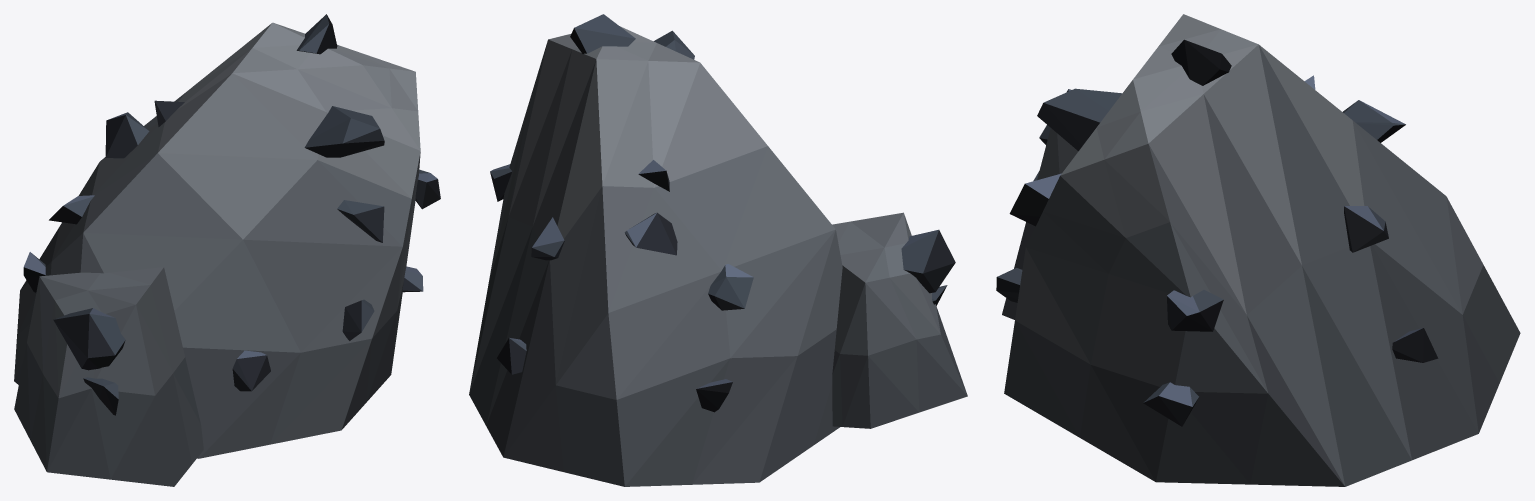
Rendered from Rocks_Ore_Coal2.glb.
3 views of the same model, side by side, from view 1: azimuth 30°, elevation 25°; view 2: azimuth 150°, elevation 25°; view 3: azimuth 270°, elevation 25° (orthographic). The views are drawn at different scales.
Parts seen in each view (by area): view 1: Rocks_Ore_Coal2; view 2: Rocks_Ore_Coal2; view 3: Rocks_Ore_Coal2.
Part boxes in pixels (x1,y1,x2,y2): Rocks_Ore_Coal2: [14, 14, 440, 486]; Rocks_Ore_Coal2: [469, 14, 967, 486]; Rocks_Ore_Coal2: [996, 14, 1520, 486].
Bounding box in the file's own units: 1.4 × 1.1 × 1.25.
